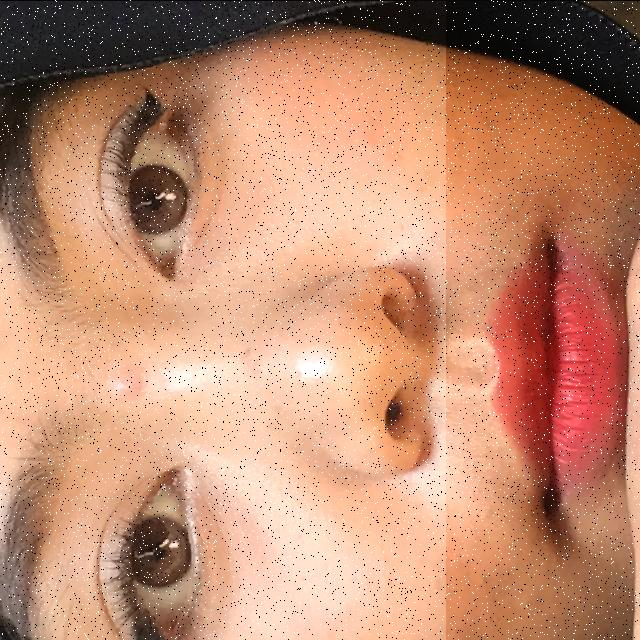sedih: (446, 0, 640, 640)
